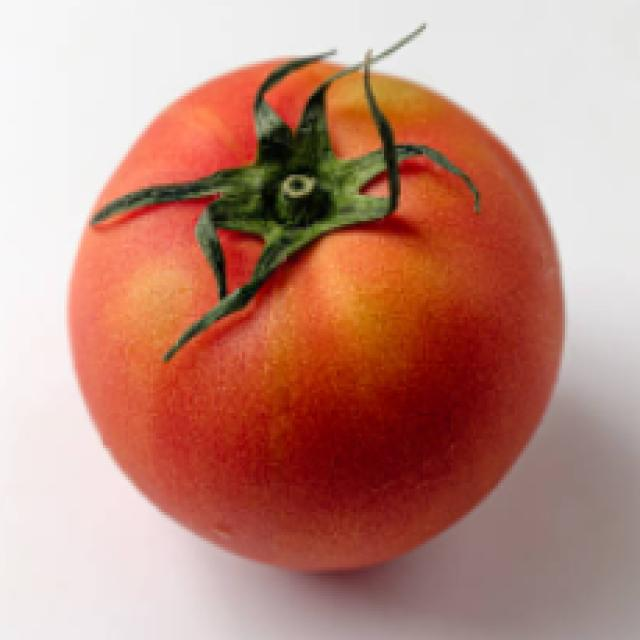Tomato: (49, 48, 579, 589)
